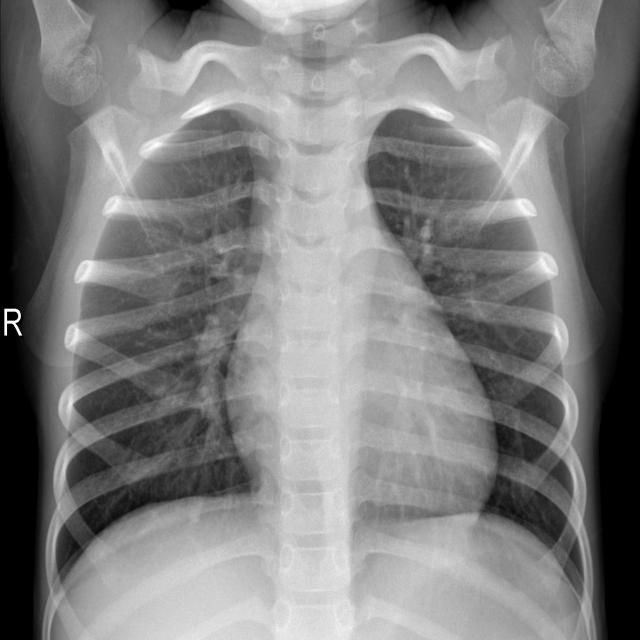no-pneumonia: (368, 111, 593, 623), (49, 112, 272, 588)
